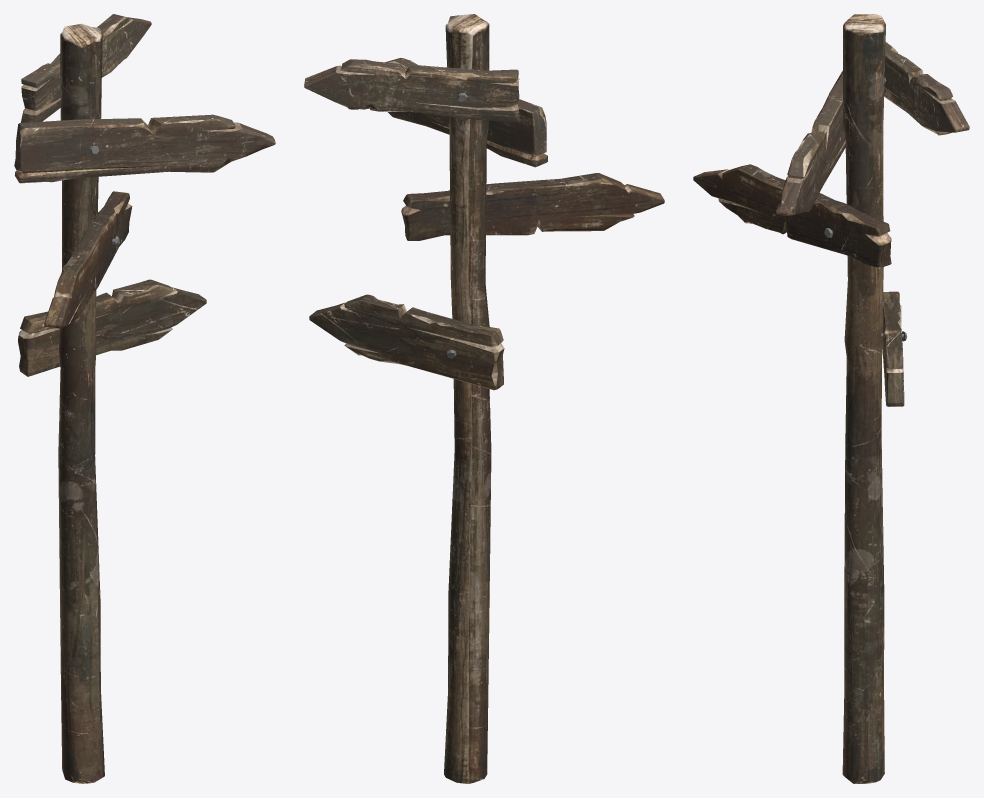
3 renders of one model, left to right at view 1: azimuth 30°, elevation 25°; view 2: azimuth 150°, elevation 25°; view 3: azimuth 270°, elevation 25°, orthographic.
Parts seen in each view (by area): view 1: SM_Wooden_Sign_02_LOD0; view 2: SM_Wooden_Sign_02_LOD0; view 3: SM_Wooden_Sign_02_LOD0.
Part boxes in pixels (x1,y1,x2,y2): SM_Wooden_Sign_02_LOD0: [14, 14, 275, 783]; SM_Wooden_Sign_02_LOD0: [304, 14, 664, 783]; SM_Wooden_Sign_02_LOD0: [693, 14, 969, 783].
Size of the model in its own units: 0.9997 by 2.65 by 0.8769.
Materials: 1 (1 with a texture image).
